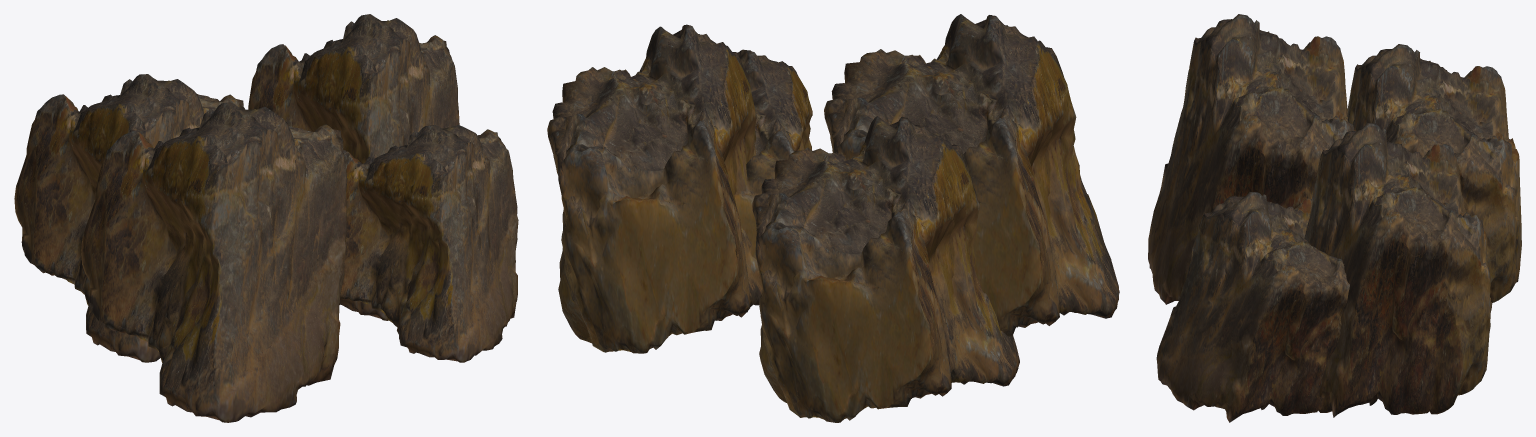
Rendered from cliff-1.obj.
The picture shows the model from 3 angles, left to right: view 1: azimuth 30°, elevation 25°; view 2: azimuth 150°, elevation 25°; view 3: azimuth 270°, elevation 25°; orthographic projection. The views are drawn at different scales.
Parts seen in each view (by area): view 1: cliff-1; view 2: cliff-1; view 3: cliff-1.
Part boxes in pixels (x1,y1,x2,y2): cliff-1: (14, 14, 518, 422); cliff-1: (547, 14, 1119, 422); cliff-1: (1148, 14, 1521, 422).
Size of the model in its own units: 7.31 by 4.96 by 6.06.
1 material, 1 textured.
